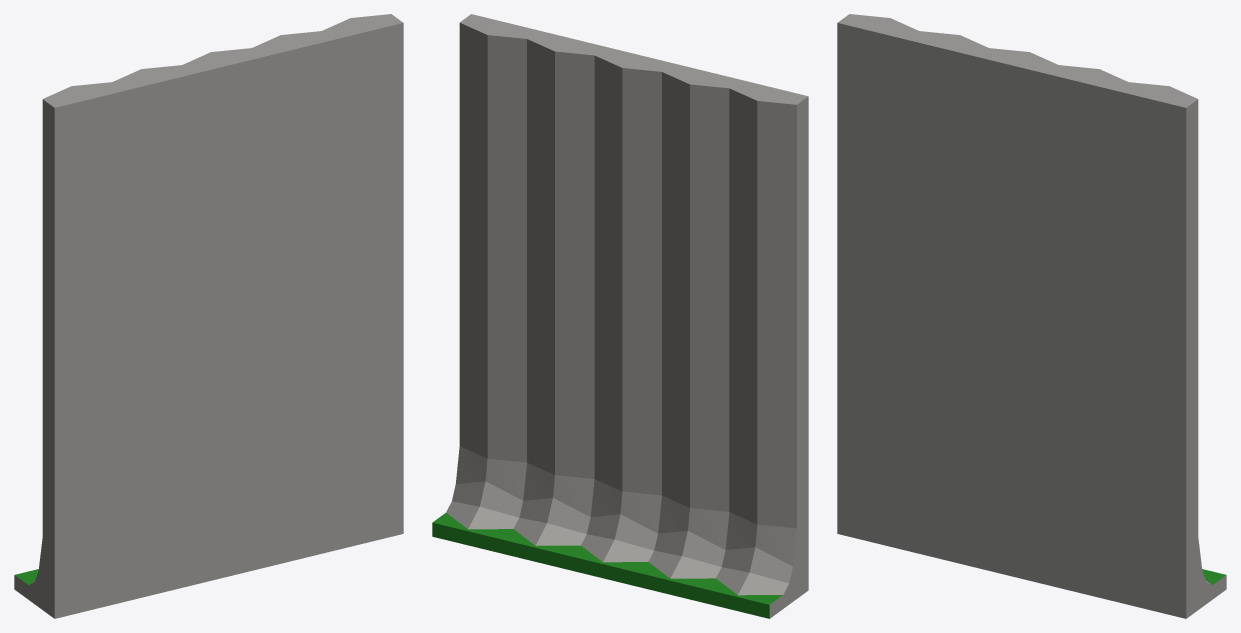
Rendered from CliffFace1.fbx.
3 renders of one model, left to right at view 1: azimuth 30°, elevation 25°; view 2: azimuth 150°, elevation 25°; view 3: azimuth 330°, elevation 25°, orthographic. The views are drawn at different scales.
Visible parts, largest first — view 1: Cliff_Mid_Straight_50, Cliff_Base_Straight_20, Cliff_Mid_Straight_46, Cliff_Mid_Straight_49, Cliff_Mid_Straight_48, Cliff_Mid_Straight_47, Cliff_Mid_Straight_36, Cliff_Mid_Straight_25, Cliff_Mid_Straight_31, Cliff_Mid_Straight_45, Cliff_Mid_Straight_26, Cliff_Mid_Straight_32 (+23 smaller); view 2: Cliff_Base_Straight_20, Cliff_Mid_Straight_50, Cliff_Base_Straight_17, Cliff_Base_Straight_18, Cliff_Base_Straight_19, Cliff_Base_Straight_16, Cliff_Mid_Straight_47, Cliff_Mid_Straight_49, Cliff_Mid_Straight_48, Cliff_Mid_Straight_46, Cliff_Mid_Straight_25, Cliff_Mid_Straight_36 (+23 smaller); view 3: Cliff_Mid_Straight_46, Cliff_Base_Straight_19, Cliff_Mid_Straight_47, Cliff_Mid_Straight_50, Cliff_Mid_Straight_48, Cliff_Mid_Straight_49, Cliff_Mid_Straight_40, Cliff_Mid_Straight_21, Cliff_Mid_Straight_35, Cliff_Mid_Straight_41, Cliff_Mid_Straight_30, Cliff_Mid_Straight_31 (+23 smaller).
Part boxes in pixels (x1,y1,x2,y2): Cliff_Mid_Straight_50: (42, 82, 124, 180); Cliff_Base_Straight_20: (14, 529, 124, 618); Cliff_Mid_Straight_46: (322, 14, 403, 112); Cliff_Mid_Straight_49: (113, 65, 194, 163); Cliff_Mid_Straight_48: (182, 48, 263, 146); Cliff_Mid_Straight_47: (252, 31, 333, 129); Cliff_Mid_Straight_36: (42, 237, 124, 326); Cliff_Mid_Straight_25: (42, 456, 124, 545); Cliff_Mid_Straight_31: (42, 310, 124, 399); Cliff_Mid_Straight_45: (42, 164, 124, 253); Cliff_Mid_Straight_26: (42, 383, 124, 472); Cliff_Mid_Straight_32: (124, 293, 194, 382); Cliff_Base_Straight_20: (702, 512, 808, 618); Cliff_Mid_Straight_50: (729, 80, 808, 175); Cliff_Base_Straight_17: (634, 495, 729, 602); Cliff_Base_Straight_18: (500, 462, 594, 569); Cliff_Base_Straight_19: (432, 446, 526, 552); Cliff_Base_Straight_16: (567, 479, 661, 585); Cliff_Mid_Straight_47: (527, 30, 605, 125); Cliff_Mid_Straight_49: (662, 63, 740, 158); Cliff_Mid_Straight_48: (594, 47, 673, 142); Cliff_Mid_Straight_46: (459, 14, 538, 109); Cliff_Mid_Straight_25: (729, 441, 808, 528); Cliff_Mid_Straight_36: (729, 229, 808, 316); Cliff_Mid_Straight_46: (1116, 82, 1198, 180); Cliff_Base_Straight_19: (1116, 529, 1226, 618); Cliff_Mid_Straight_47: (1046, 65, 1127, 163); Cliff_Mid_Straight_50: (837, 14, 918, 112); Cliff_Mid_Straight_48: (977, 48, 1058, 146); Cliff_Mid_Straight_49: (907, 31, 988, 129); Cliff_Mid_Straight_40: (1116, 237, 1198, 326); Cliff_Mid_Straight_21: (1116, 456, 1198, 545); Cliff_Mid_Straight_35: (1116, 310, 1198, 399); Cliff_Mid_Straight_41: (1116, 164, 1198, 253); Cliff_Mid_Straight_30: (1116, 383, 1198, 472); Cliff_Mid_Straight_31: (837, 242, 907, 331).
Size of the model in its own units: 50 by 70 by 10.
